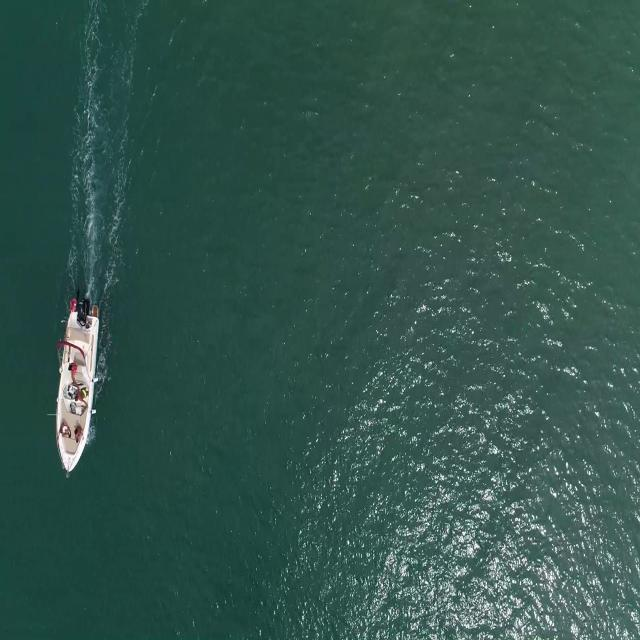boat: (55, 309, 98, 480)
life_buoy: (69, 298, 77, 311)
person: (74, 387, 90, 409), (57, 420, 71, 444), (68, 360, 78, 384), (74, 426, 83, 444)
